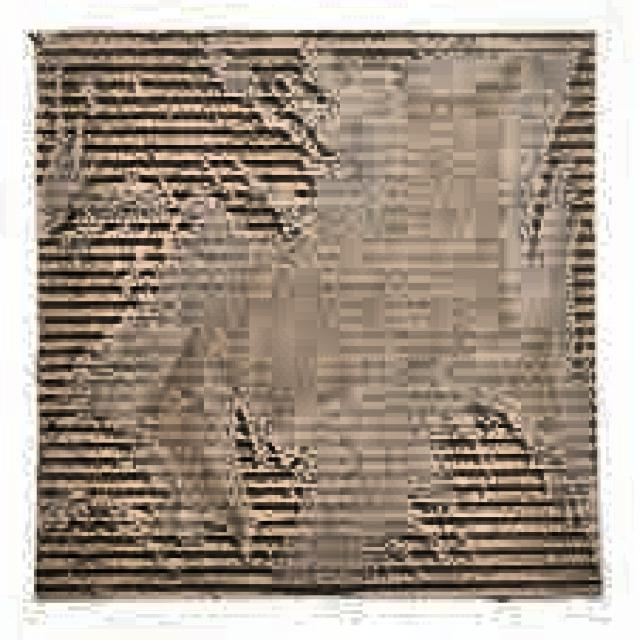Cardbox: (18, 10, 617, 613)
